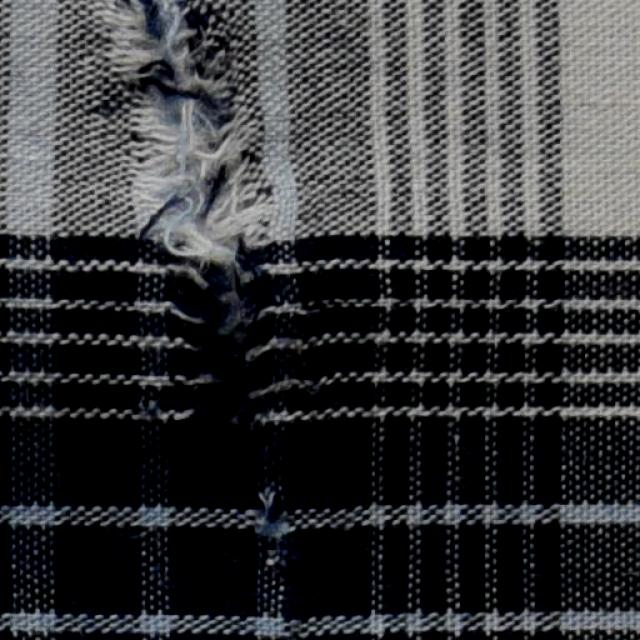Hole: (145, 85, 221, 215)
Snag: (143, 168, 279, 437), (113, 0, 230, 87)
